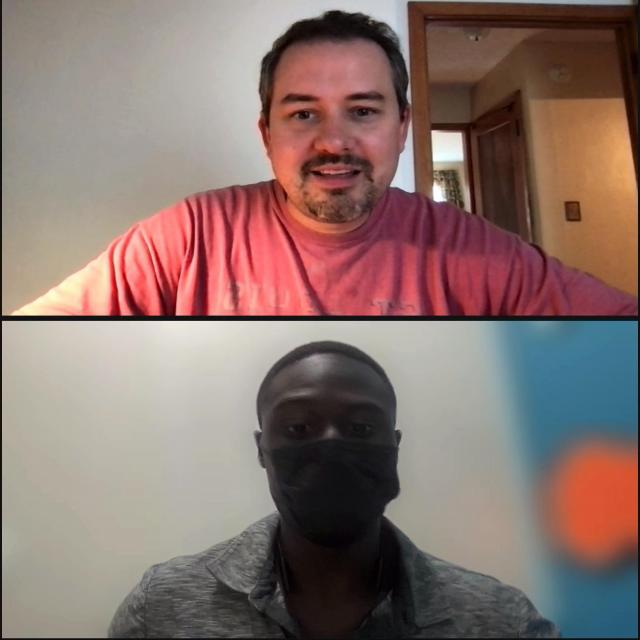face: (253, 354, 403, 545), (260, 31, 405, 221)
